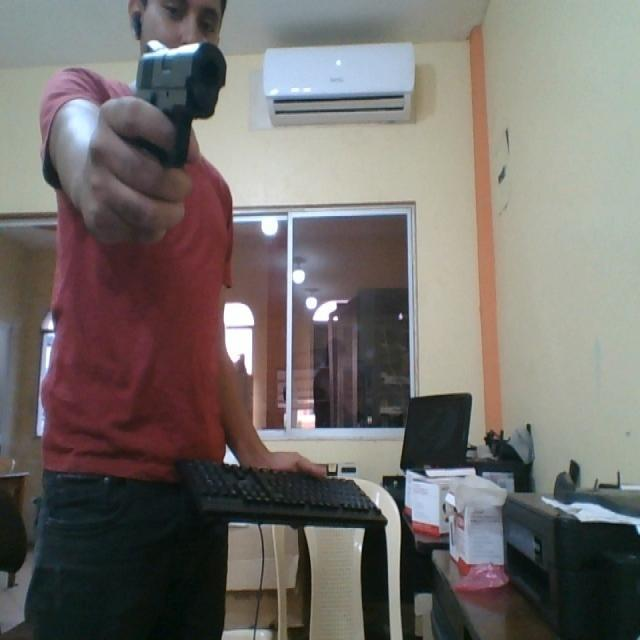weapon: (132, 38, 228, 170)
